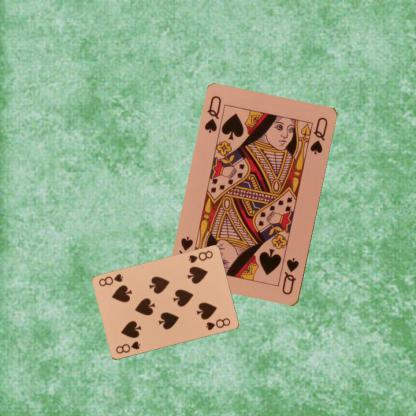8s: (113, 338, 141, 356), (185, 248, 214, 264)
Qs: (202, 94, 223, 134), (280, 256, 300, 296)
